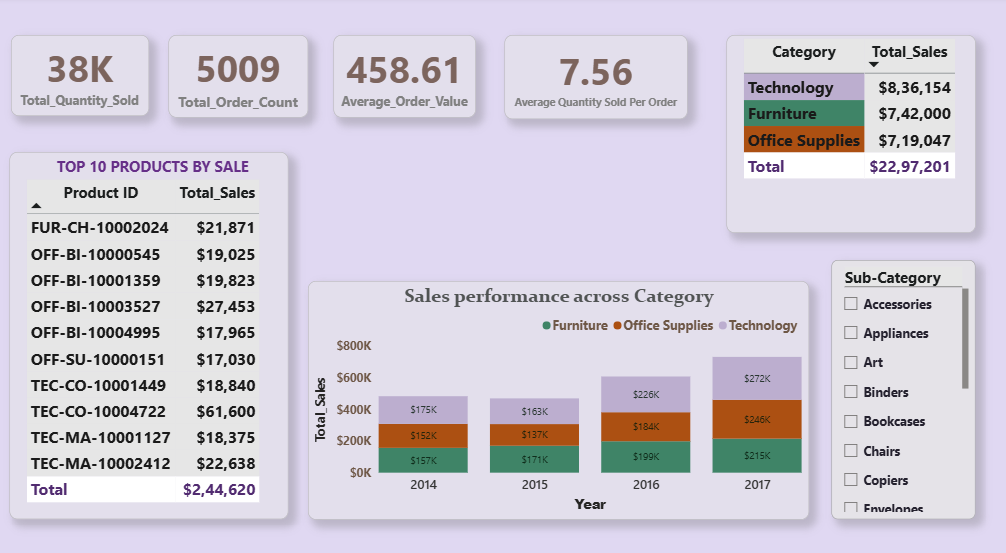

The dashboard page shown, as its layout file describes it:
{"tool":"powerbi","page":{"name":"Product Performance","canvas":[1280,720],"ordinal":1},"visuals":[{"type":"card","fields":{"Values":["Measures_table.Total_Quantity_Sold"]},"box":[18.9,49.1,173.9,102],"z":0},{"type":"card","fields":{"Values":["Measures_table.Average Quantity Per Order"]},"box":[640.6,49.1,230.6,105.8],"z":1000},{"type":"card","fields":{"Values":["Measures_table.Total_Order_Count"]},"box":[217.3,49.1,175.7,103.9],"z":2000},{"type":"card","fields":{"Values":["Measures_table.Average_Order_Value"]},"box":[425.2,49.1,179.5,103.9],"z":3000},{"type":"tableEx","fields":{"Values":["Dim_Product.Category","Measures_table.Total_Sales"]},"box":[920.3,49.1,313.7,249.5],"z":4000},{"type":"columnChart","title":"Sales performance across Category","fields":{"Y":["Measures_table.Total_Sales"],"Category":["Dim_Date.Year"],"Series":["Dim_Product.Category"]},"box":[393.1,359.1,631.2,300.5],"z":5000},{"type":"tableEx","title":"TOP 10 PRODUCTS BY SALE","fields":{"Values":["Dim_Product.Product ID","Measures_table.Total_Sales"]},"box":[17,196.5,351.5,463],"z":6000},{"type":"slicer","fields":{"Values":["Dim_Product.Sub-Category"]},"box":[1052.6,332.6,181.4,326.9],"z":7000},{"type":"card","fields":{"Values":["Measures_table.Top 100 Products Sales"]},"box":[393.1,215.4,211.7,117.2],"z":7001},{"type":"card","fields":{"Values":["Measures_table.Top 100 Products Contribution"]},"box":[640.6,215.4,230.6,117.2],"z":7002}]}

Visuals, with their boxes in screenshot pixels (x1, y1, x2, y2), scaled from the page's 1280x720 canvas onto the 1006x553 screenshot:
card - Measures_table.Total_Quantity_Sold: 15 38 152 116
card - Measures_table.Average Quantity Per Order: 503 38 685 119
card - Measures_table.Total_Order_Count: 171 38 309 118
card - Measures_table.Average_Order_Value: 334 38 475 118
tableEx - Dim_Product.Category x Measures_table.Total_Sales: 723 38 970 229
"Sales performance across Category" columnChart: 309 276 805 507
"TOP 10 PRODUCTS BY SALE" tableEx: 13 151 290 507
slicer - Dim_Product.Sub-Category: 827 255 970 507
card - Measures_table.Top 100 Products Sales: 309 165 475 255
card - Measures_table.Top 100 Products Contribution: 503 165 685 255
